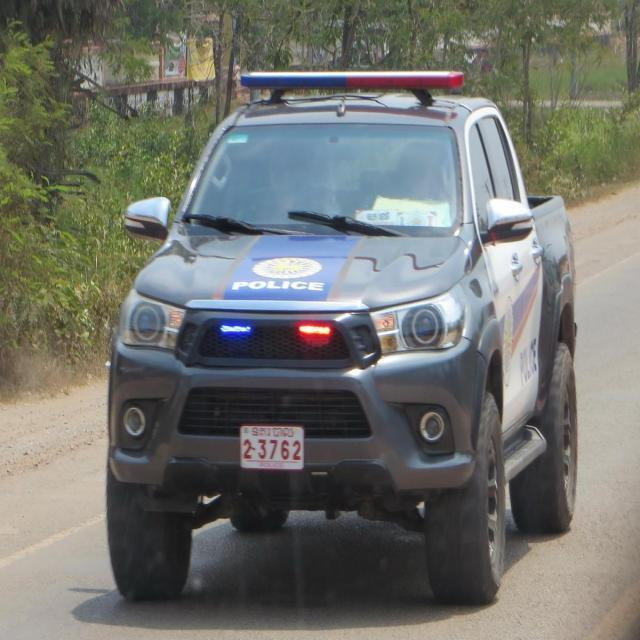Police: (251, 427, 296, 438)
